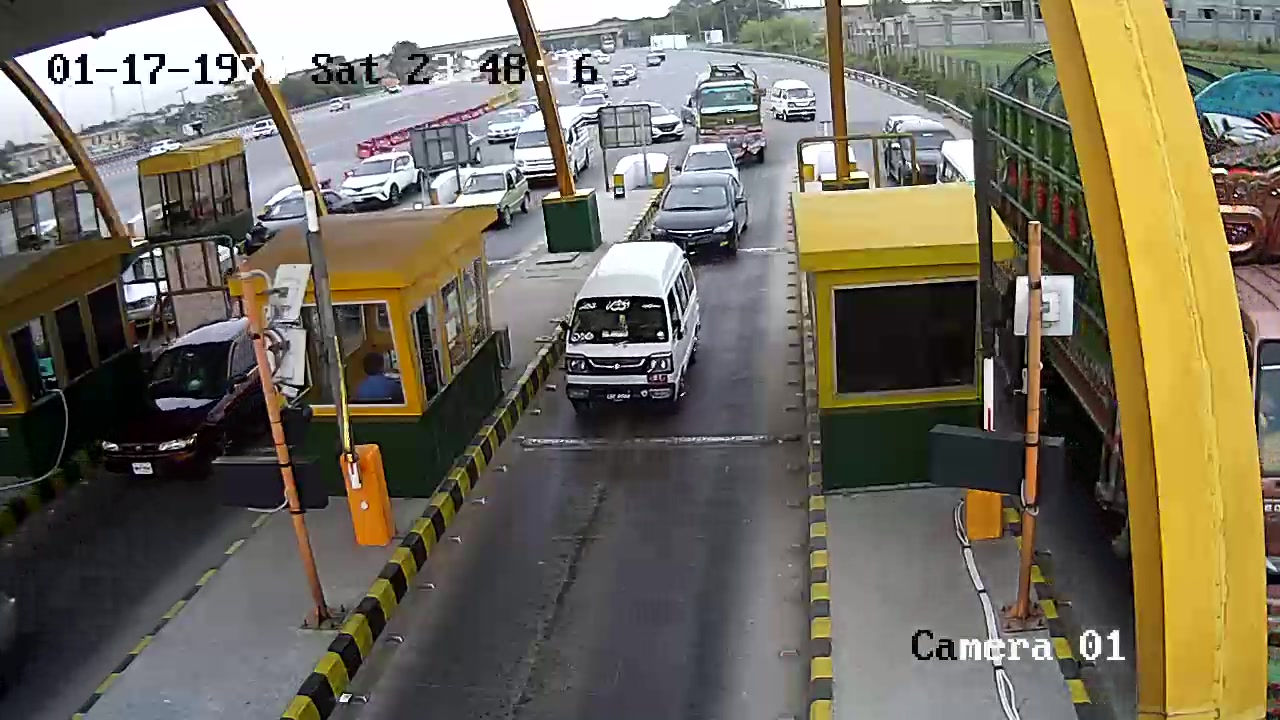F1: (564, 235, 703, 423)
